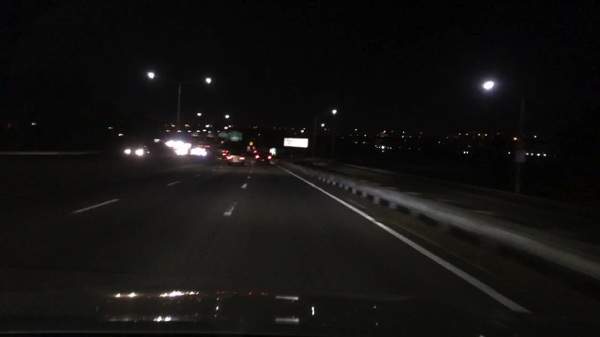car: (124, 145, 150, 156), (255, 151, 272, 167), (227, 153, 246, 166), (190, 148, 207, 156), (221, 150, 230, 160), (197, 143, 203, 148), (253, 150, 258, 156), (204, 145, 210, 148)
traffic sign: (283, 137, 308, 148), (227, 131, 243, 142), (514, 150, 525, 162), (219, 133, 228, 138), (246, 147, 252, 153), (249, 142, 254, 147)
